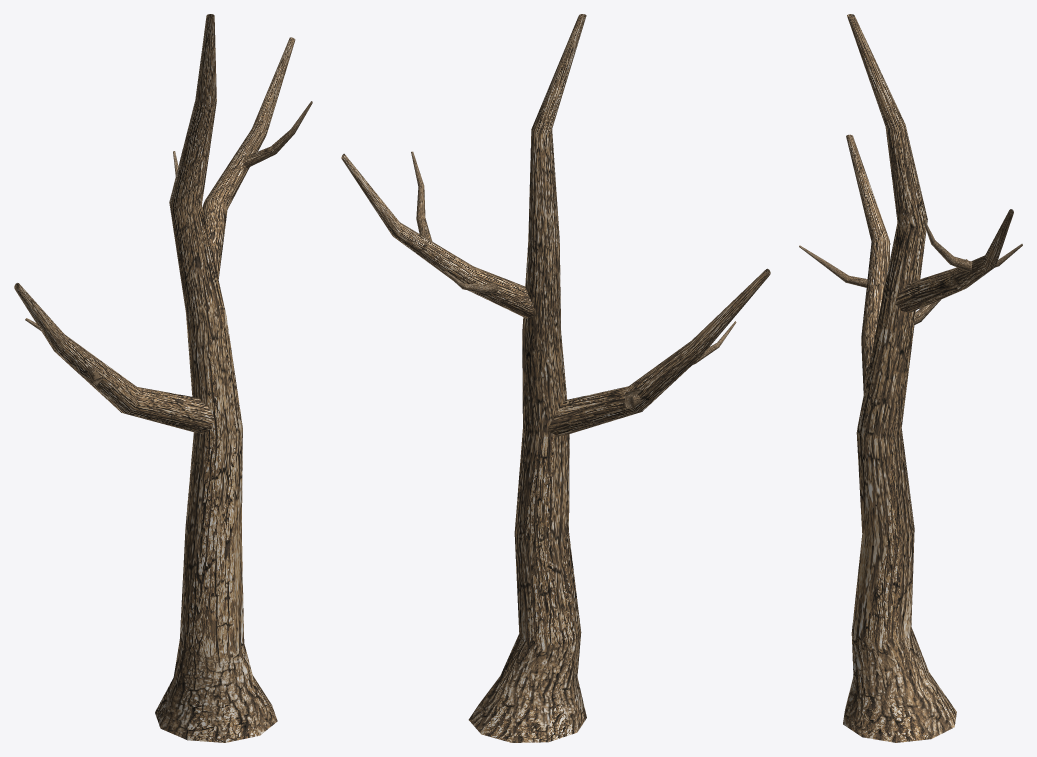
File: Árvore 3 seca.fbx
The picture shows the model from 3 angles, left to right: view 1: azimuth 30°, elevation 25°; view 2: azimuth 150°, elevation 25°; view 3: azimuth 270°, elevation 25°; orthographic projection. The views are drawn at different scales.
Parts seen in each view (by area): view 1: Árvore 3 seca; view 2: Árvore 3 seca; view 3: Árvore 3 seca.
Boxes of the visible parts, <box> form: Árvore 3 seca: <box>14,14,312,742</box>; Árvore 3 seca: <box>341,14,770,742</box>; Árvore 3 seca: <box>799,14,1022,742</box>.
Size of the model in its own units: 4.91 by 9.36 by 2.76.
